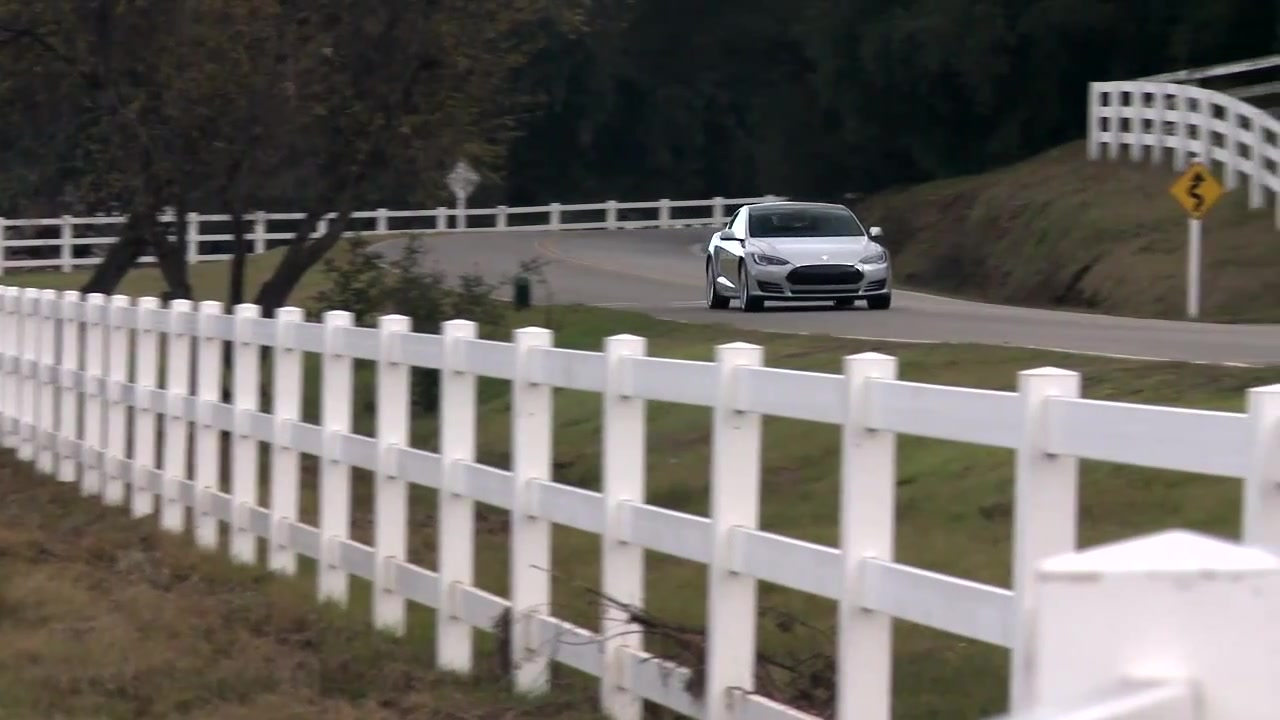car: (699, 202, 898, 319)
